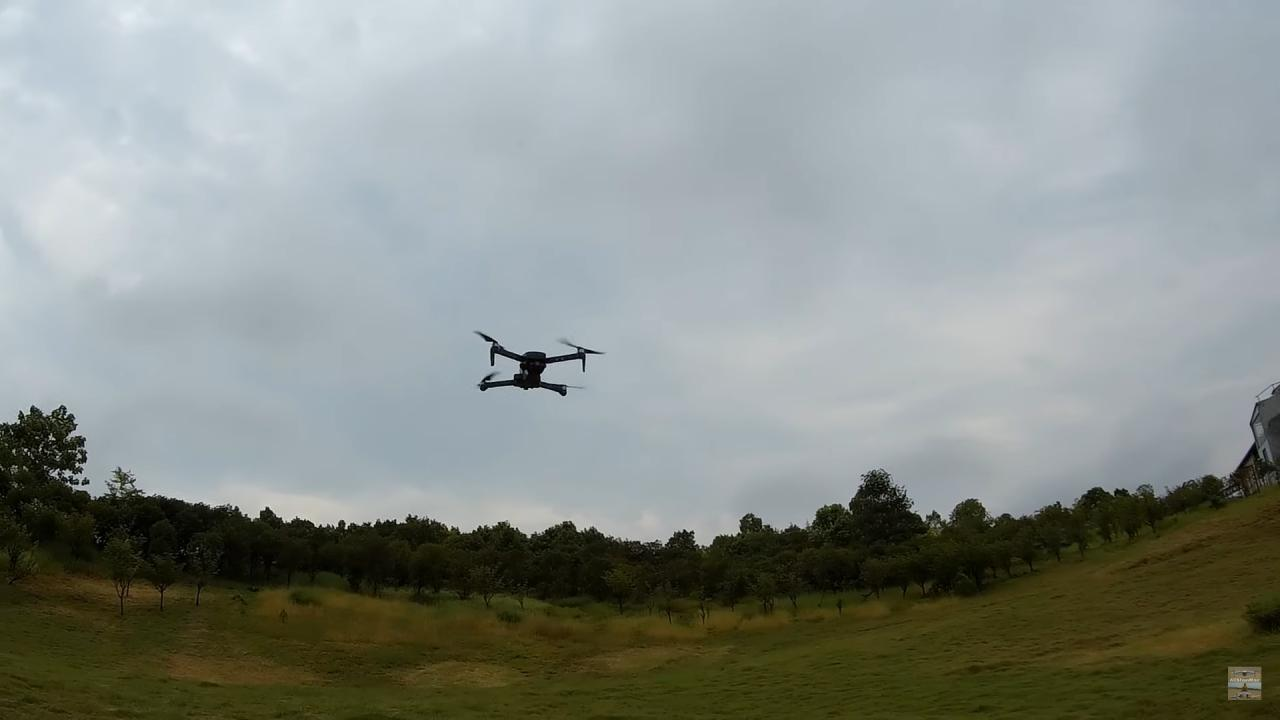Drone: (459, 317, 618, 411)
